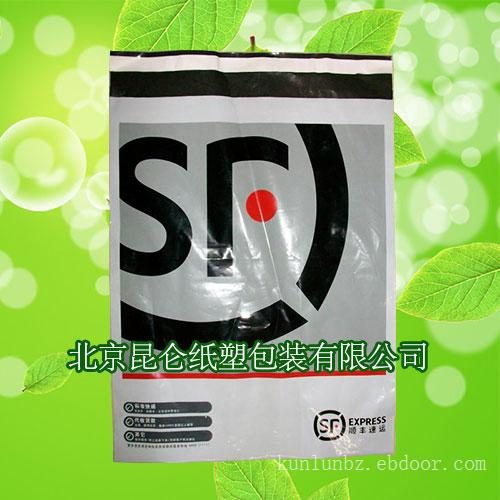塑料袋: (95, 52, 396, 460)
